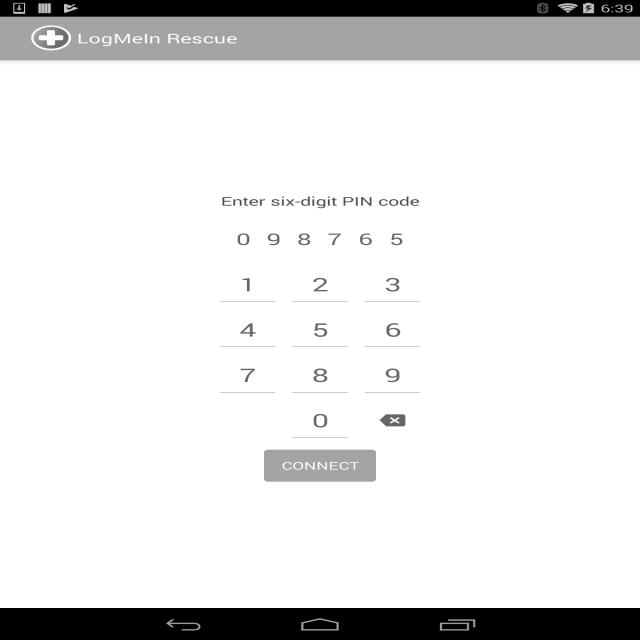Button: (264, 449, 376, 482), (292, 267, 348, 302), (292, 312, 348, 347), (292, 403, 348, 438), (220, 267, 275, 302), (365, 267, 420, 302), (220, 312, 275, 347), (365, 312, 420, 347), (292, 358, 348, 392), (220, 358, 275, 392), (365, 358, 420, 392)
ImageButton: (365, 403, 420, 438)
ImageView: (26, 22, 76, 54)
TextView: (13, 186, 627, 216), (77, 29, 237, 47), (228, 228, 259, 250), (289, 228, 320, 250), (319, 228, 350, 250), (350, 228, 381, 250), (381, 228, 412, 250), (259, 228, 289, 250)
